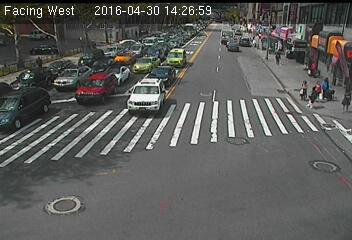neg: (310, 146, 340, 186), (129, 168, 158, 208), (220, 117, 249, 154), (117, 78, 142, 112), (161, 44, 184, 73), (219, 36, 240, 64), (40, 187, 61, 214), (72, 127, 92, 153), (197, 151, 216, 176), (311, 34, 329, 58), (249, 18, 265, 40), (291, 156, 306, 177), (111, 31, 125, 50)
pos: (334, 86, 349, 106), (307, 87, 322, 106), (321, 72, 335, 90), (274, 48, 287, 64), (297, 78, 309, 93), (32, 54, 43, 69)
